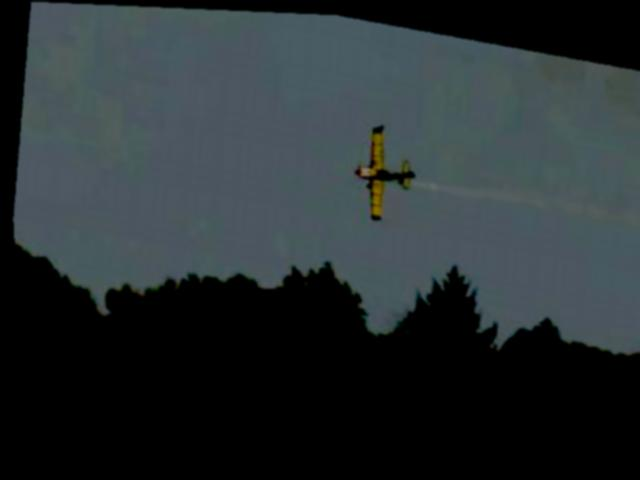uav: (338, 113, 426, 230)
